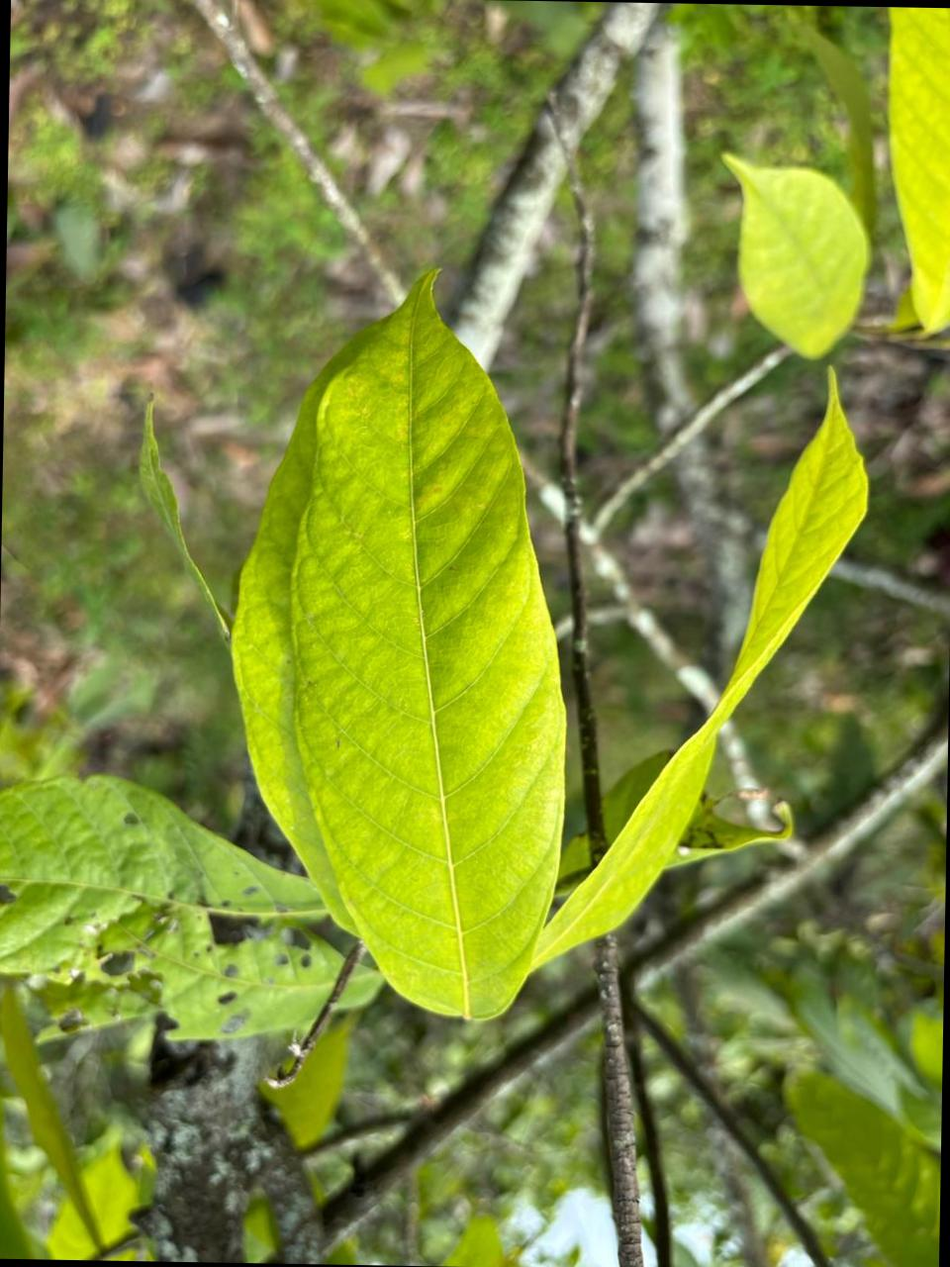Nitrogeno: (283, 273, 567, 1019)
